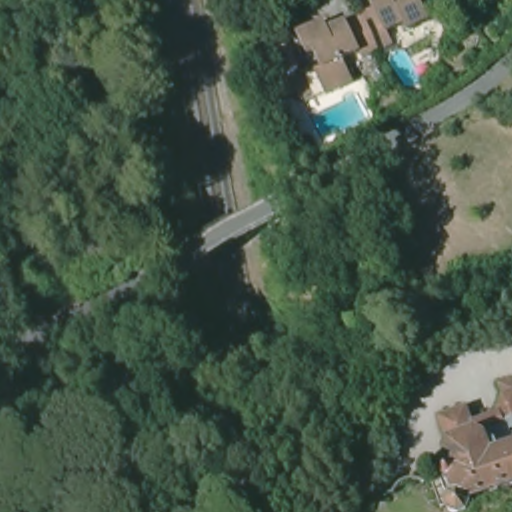pool: (311, 94, 371, 140), (386, 45, 421, 89)
